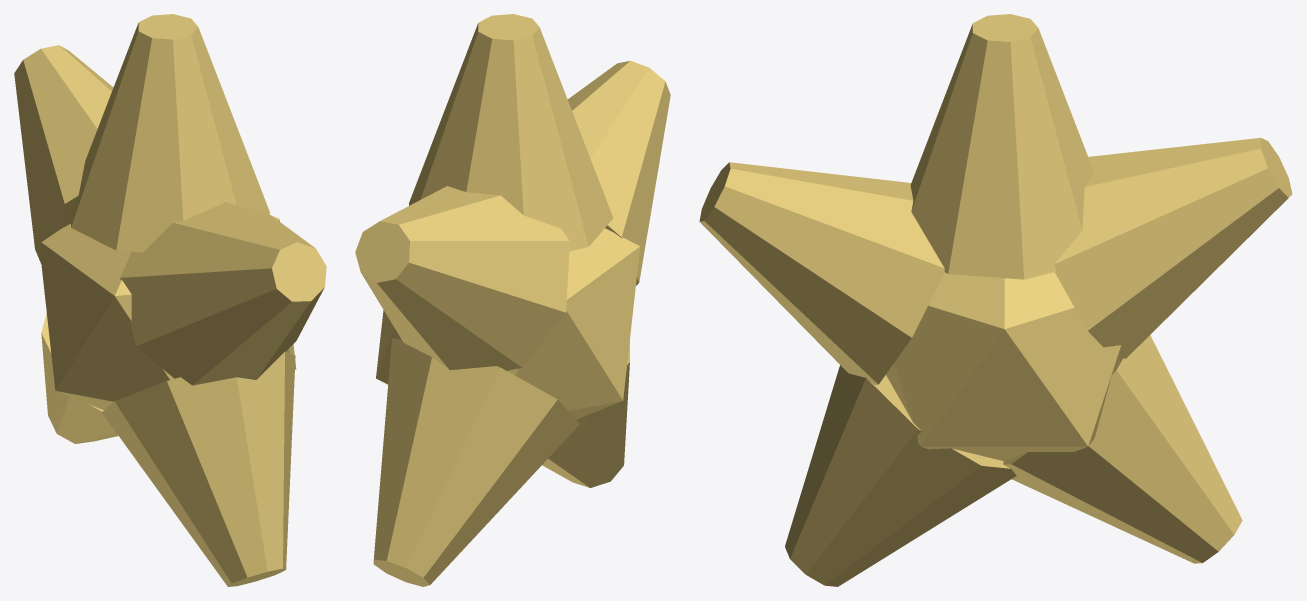
Rendered from star.glb.
3 views of the same model, side by side, from view 1: azimuth 30°, elevation 25°; view 2: azimuth 150°, elevation 25°; view 3: azimuth 270°, elevation 25° (orthographic). The views are drawn at different scales.
Parts seen in each view (by area): view 1: Icosphere; view 2: Icosphere; view 3: Icosphere.
Boxes of the visible parts, bbox=[...] form: Icosphere: bbox=[14, 14, 326, 586]; Icosphere: bbox=[355, 14, 670, 586]; Icosphere: bbox=[699, 14, 1292, 586].
Size of the model in its own units: 8.52 by 18.27 by 17.77.
